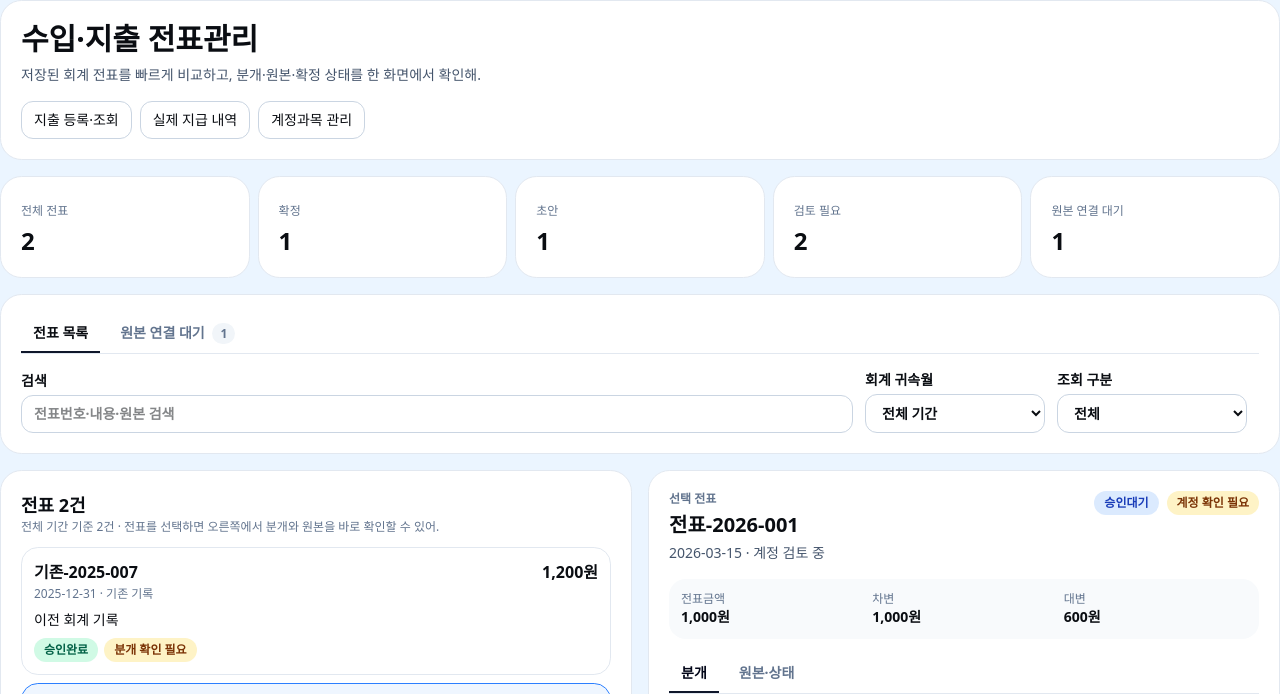
Test case: accounting drafts and original records › keeps PAY viewers read-only and still lets them inspect real linked entries
The width and height of the screenshot is (1280, 694).
Click the tab "원본 연결 대기 1". click: (178, 334)
box: x1=108 y1=315 x2=247 y2=353
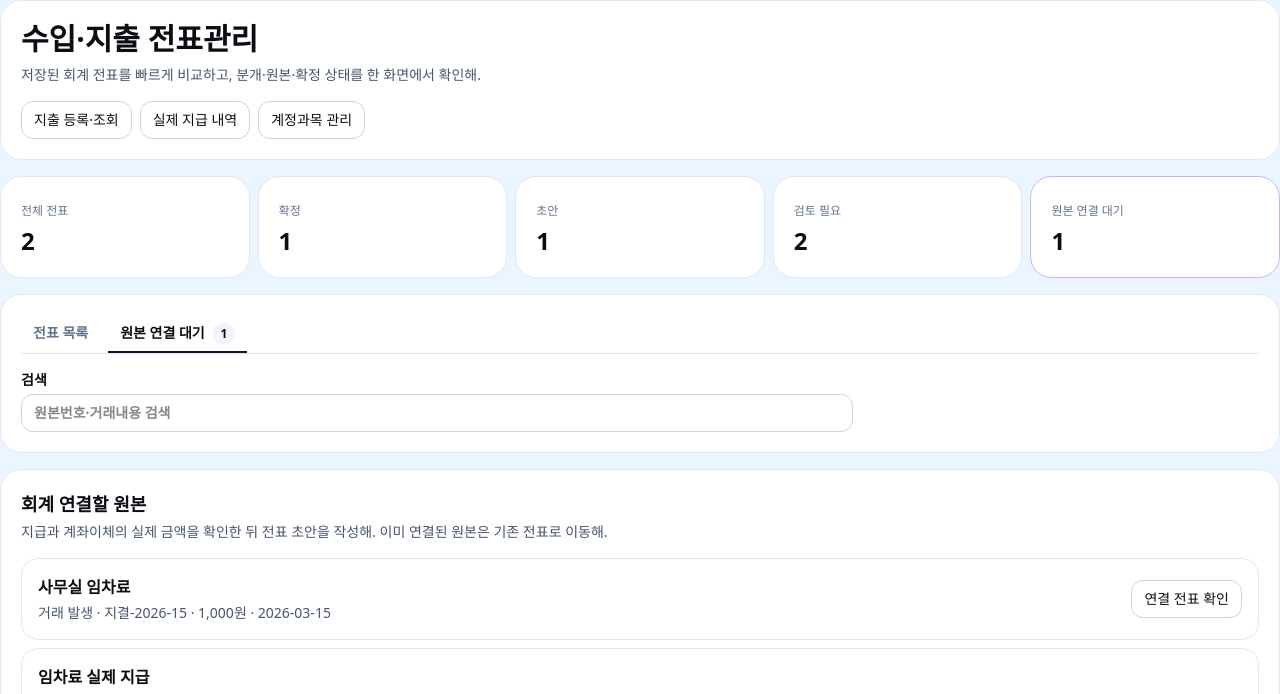
Check: the button "연결 전표 확인" is shown, box x1=1131 y1=580 x2=1242 y2=618
